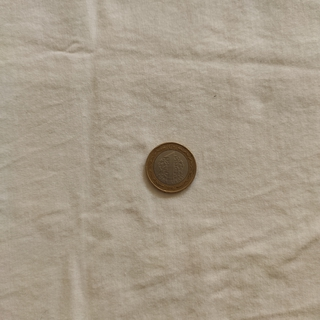1TL: (143, 140, 197, 194)
